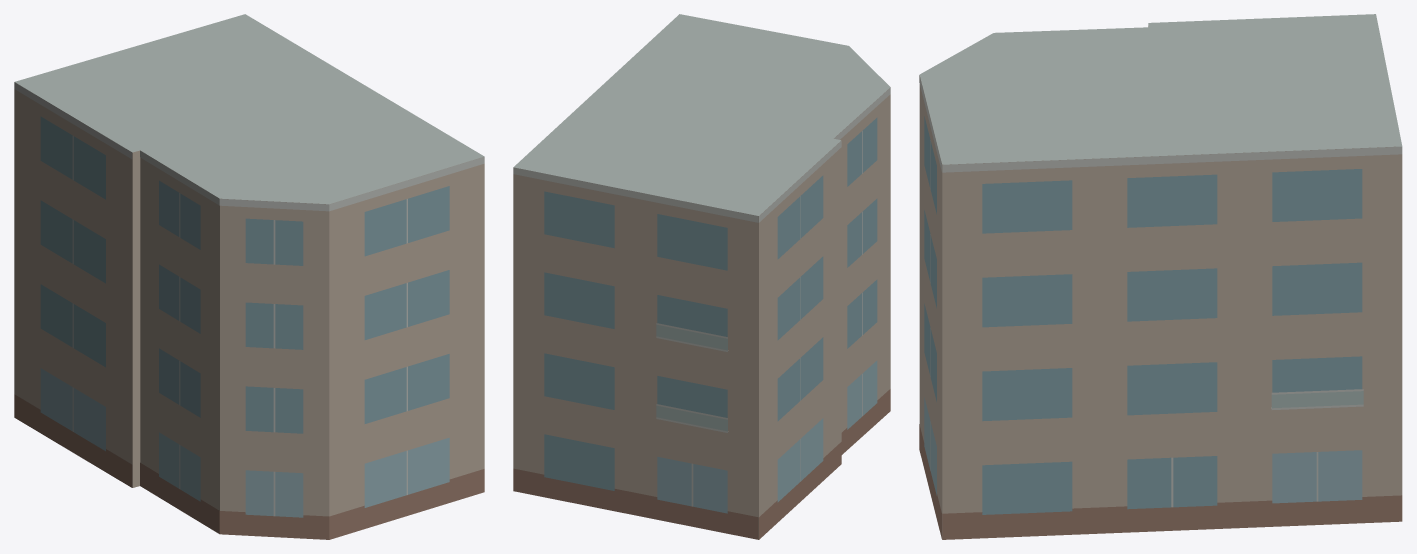
Rendered from survey-upis-33030594.glb.
The picture shows the model from 3 angles, left to right: view 1: azimuth 30°, elevation 25°; view 2: azimuth 150°, elevation 25°; view 3: azimuth 270°, elevation 25°; orthographic projection. The views are drawn at different scales.
Visible parts, largest first — view 1: survey-upis-33030594.tmp; view 2: survey-upis-33030594.tmp; view 3: survey-upis-33030594.tmp.
Part boxes in pixels (x1=…): survey-upis-33030594.tmp: x1=14, y1=14, x2=484, y2=539; survey-upis-33030594.tmp: x1=513, y1=14, x2=890, y2=539; survey-upis-33030594.tmp: x1=919, y1=14, x2=1402, y2=539.
Bounding box in the file's own units: 10.01 × 11.6 × 13.54.
